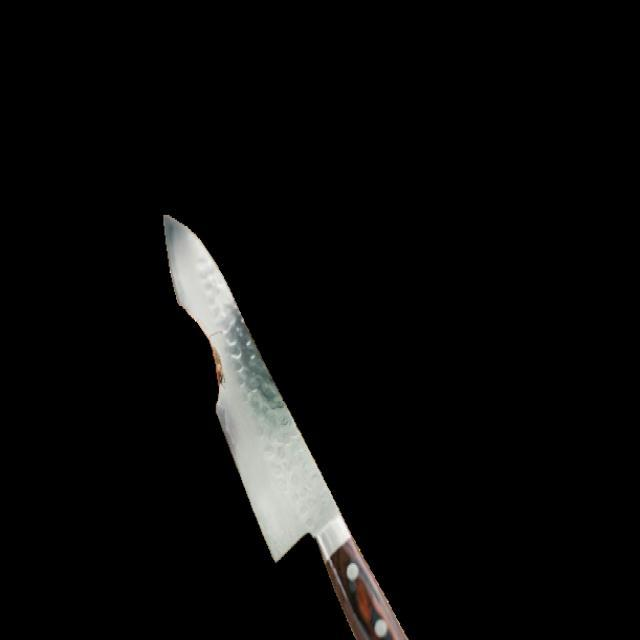knife: (158, 210, 407, 638)
